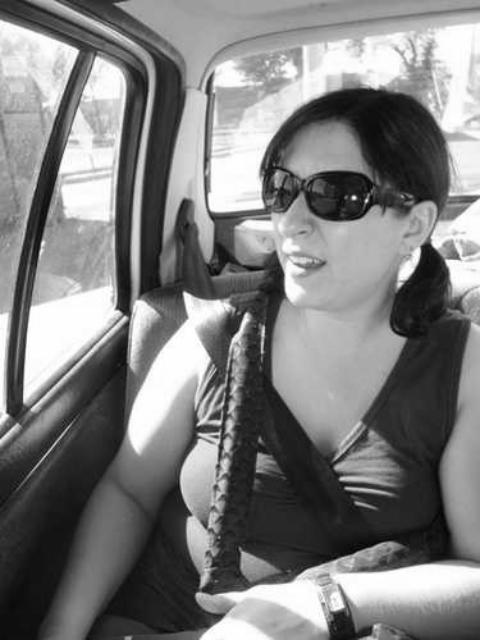SafeDriving: (308, 178, 356, 204), (259, 174, 294, 206)
Seatbelt: (170, 197, 384, 558)
